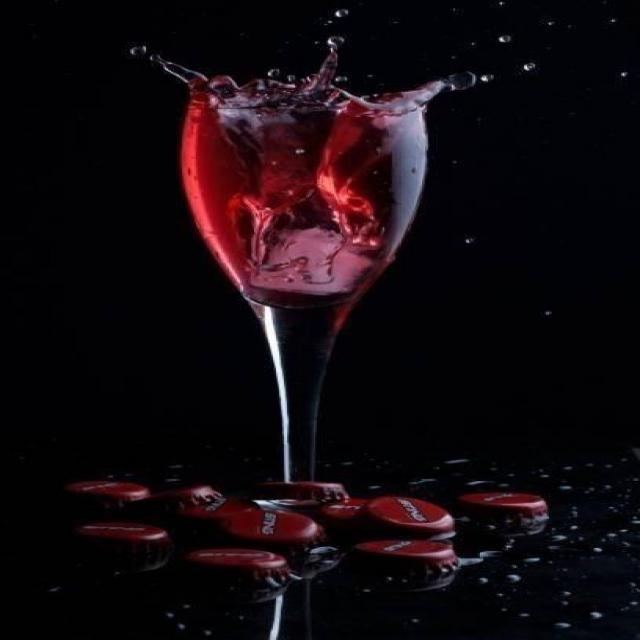glass-wine: (174, 83, 436, 494)
